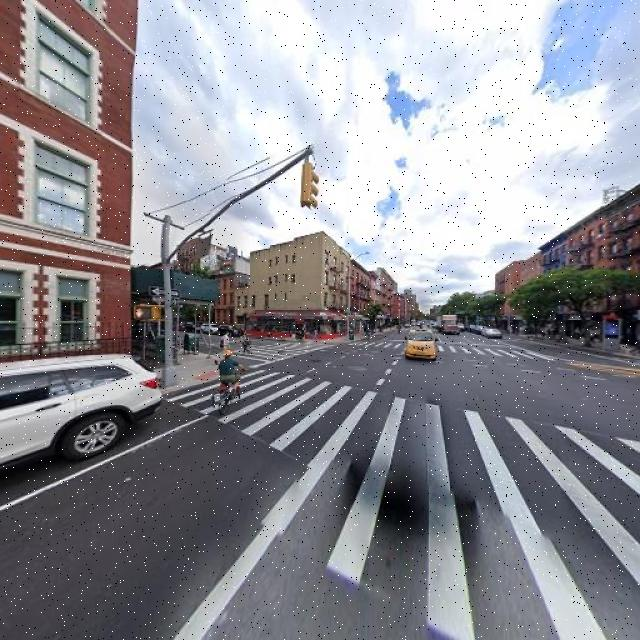Building: (1, 1, 129, 404), (557, 187, 640, 349), (249, 232, 352, 339)
